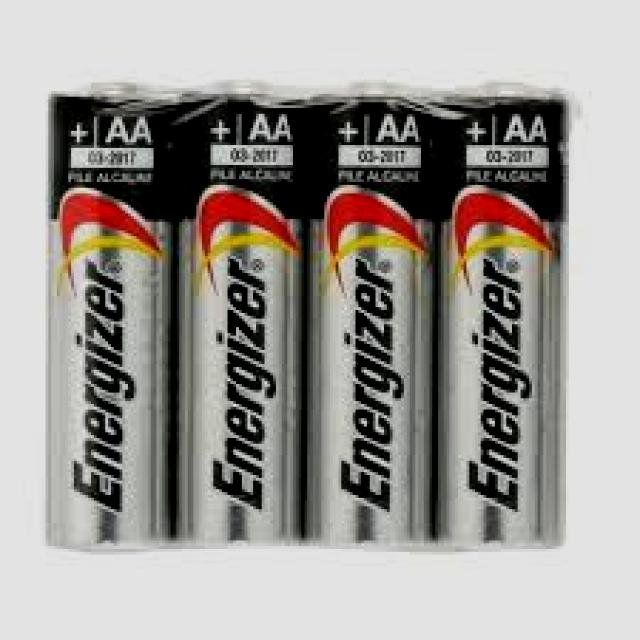elektronik: (48, 95, 580, 563), (48, 89, 189, 558), (174, 92, 314, 552)
